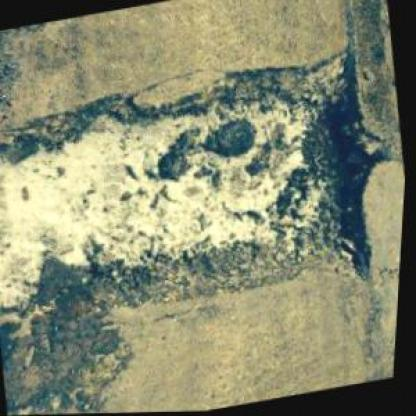pothole: (0, 40, 409, 355)
